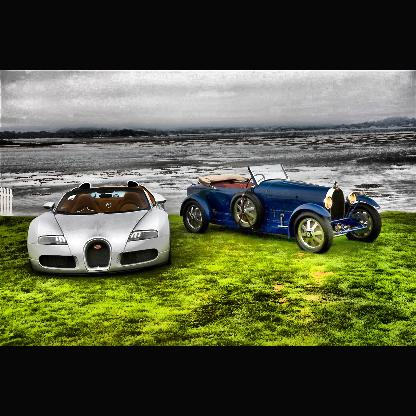Bugatti Veyron 16-4 Convertible 2009: (181, 168, 381, 254)
